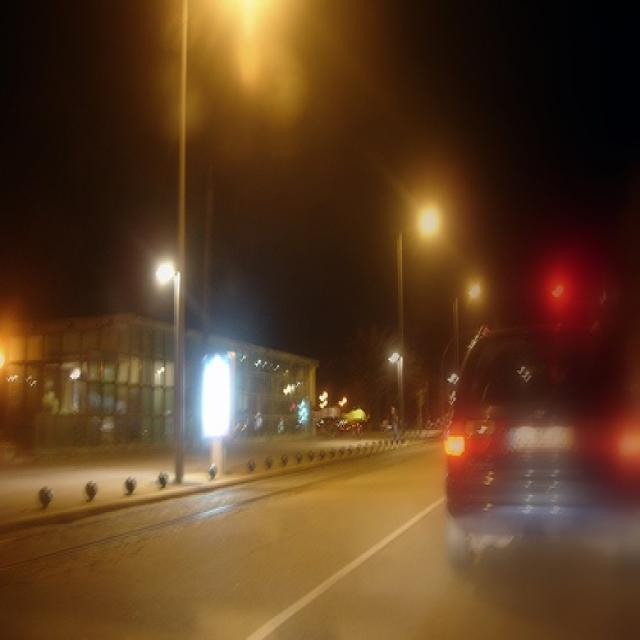car: (442, 319, 638, 572)
